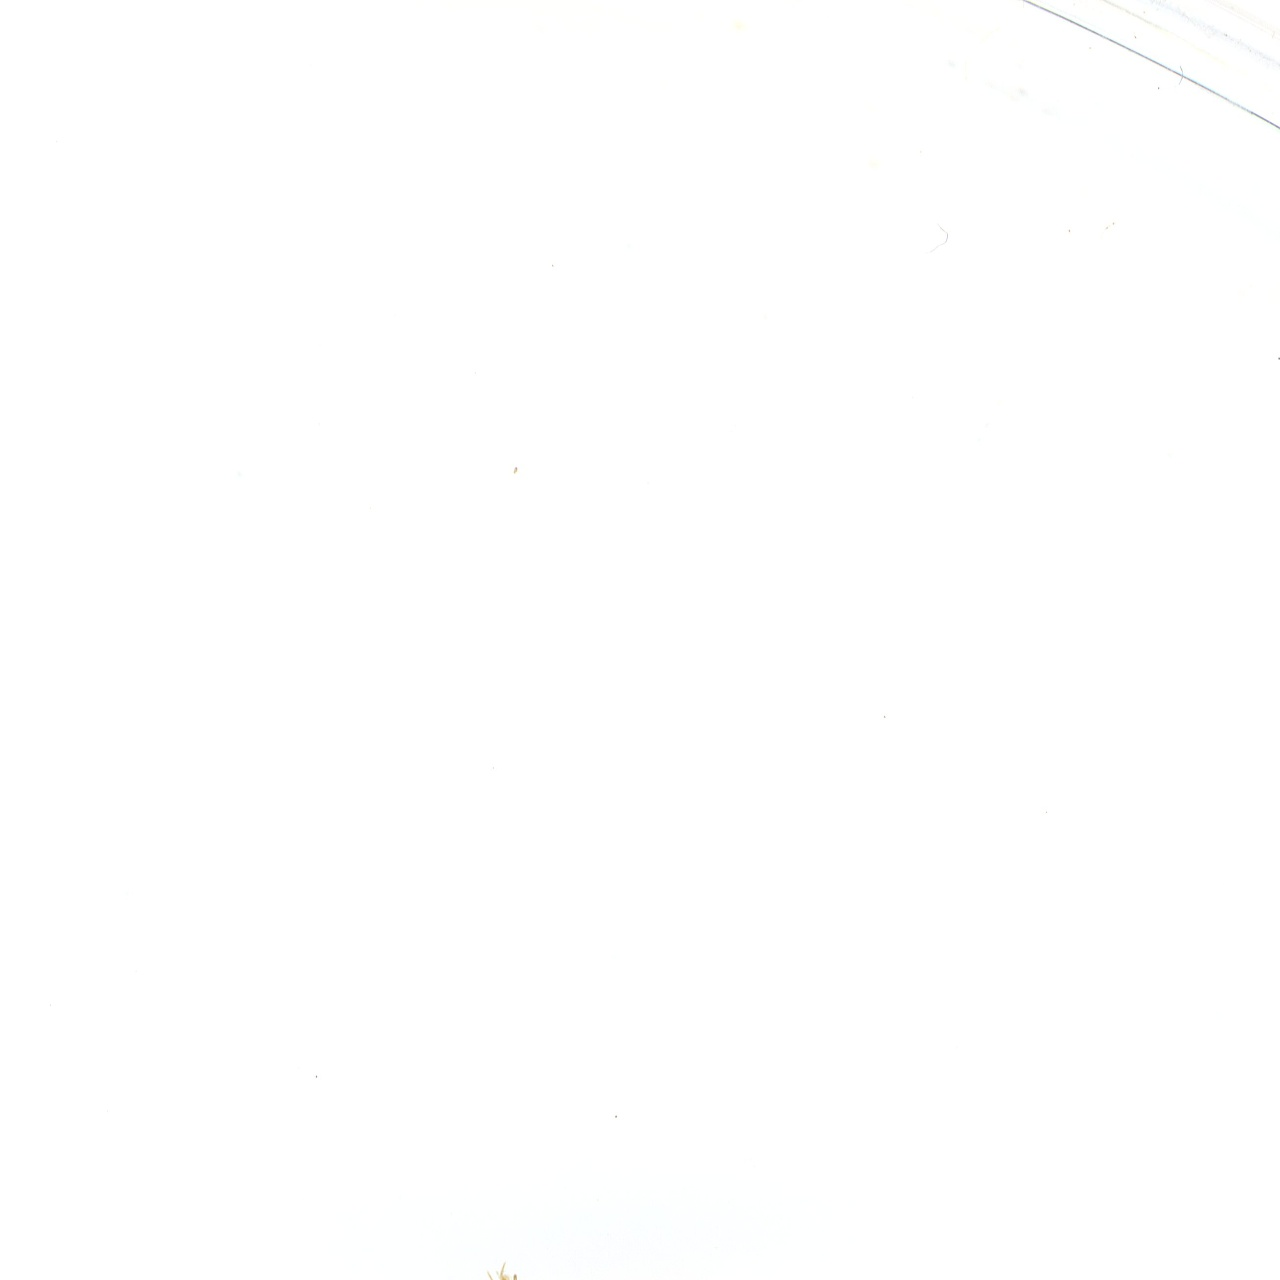arthropod: (478, 1253, 543, 1280)
